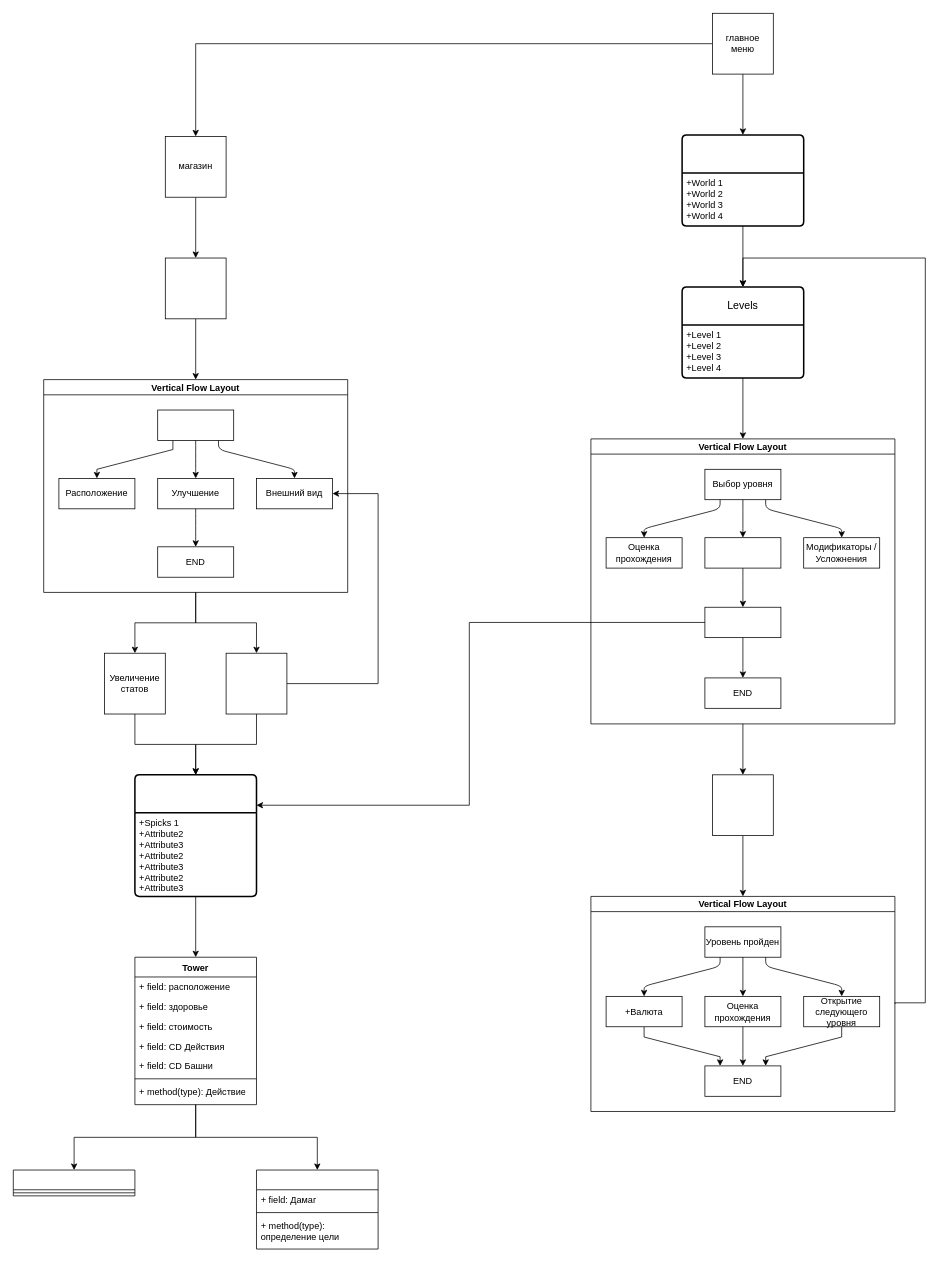
The diagram is 945 pixels wide and 1265 high, and some of its shapes have lost their labels. The box of each missing label's shape, as (x1, y1, x2, y2) in pixels:
Atack Tower: (256, 1169, 378, 1249)
Support Tower: (13, 1169, 135, 1196)
Towers: (134, 774, 257, 897)
Worlds: (681, 134, 804, 226)
все башни: (165, 257, 226, 319)
Выбор n-го количества башен: (704, 606, 781, 638)
Выбор башни: (157, 409, 234, 440)
начать уровень: (704, 537, 781, 568)
Супер Геймплей: (712, 774, 773, 836)
Улучшается внешний вид башен: (225, 652, 287, 714)
